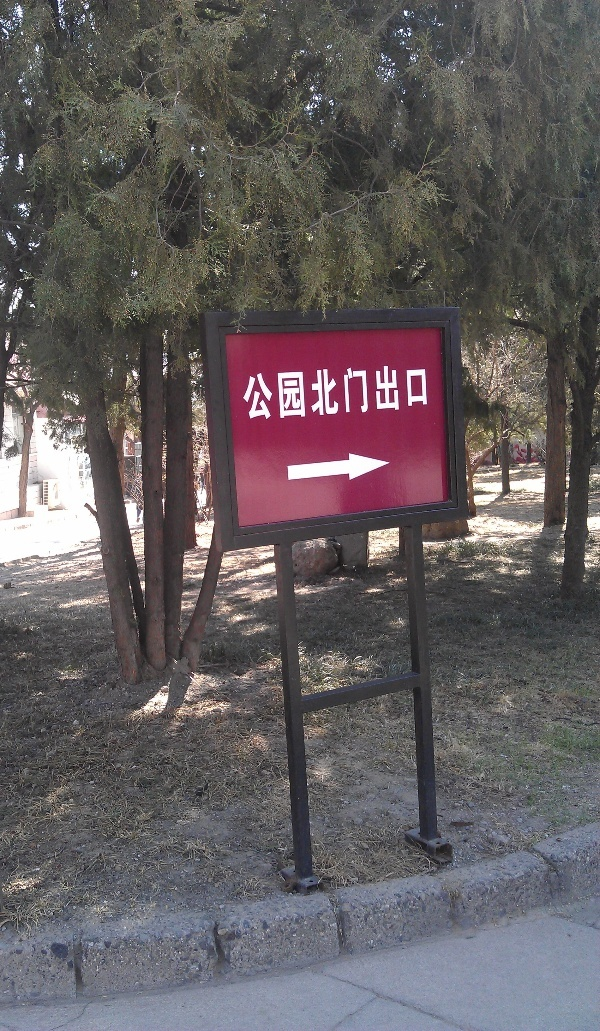text: (257, 360, 272, 424), (273, 360, 288, 424), (289, 360, 304, 424), (305, 360, 320, 424), (321, 360, 336, 424), (337, 360, 352, 424), (353, 360, 368, 424), (369, 360, 384, 424), (385, 360, 400, 424), (401, 360, 416, 424), (417, 360, 431, 424), (243, 360, 256, 424)
